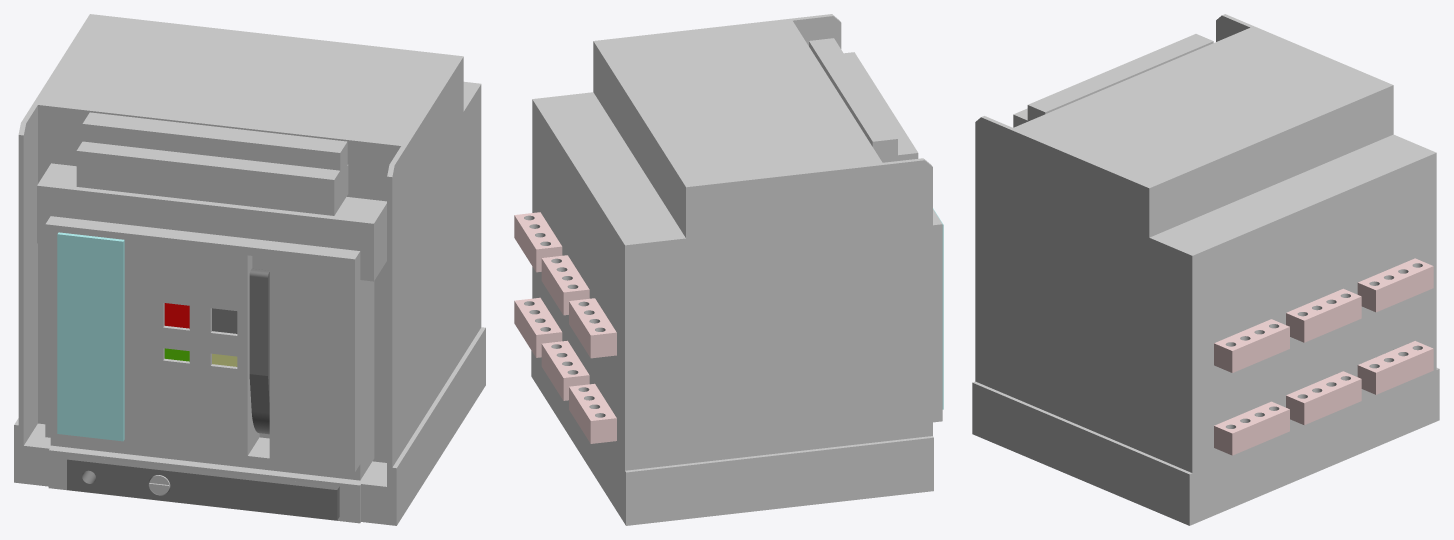
Rendered from 09_vyklyuchatel-avtomaticheskiy-va-67.glb.
3 views of the same model, side by side, from view 1: azimuth 30°, elevation 25°; view 2: azimuth 150°, elevation 25°; view 3: azimuth 270°, elevation 25° (orthographic). The views are drawn at different scales.
Parts seen in each view (by area): view 1: 09_vyklyuchatel-avtomaticheskiy-va-67; view 2: 09_vyklyuchatel-avtomaticheskiy-va-67; view 3: 09_vyklyuchatel-avtomaticheskiy-va-67.
Boxes of the visible parts, x1,y1,x2,y2 form: 09_vyklyuchatel-avtomaticheskiy-va-67: [14, 14, 485, 525]; 09_vyklyuchatel-avtomaticheskiy-va-67: [514, 14, 943, 525]; 09_vyklyuchatel-avtomaticheskiy-va-67: [972, 14, 1439, 525].
Bounding box in the file's own units: 575 × 432 × 575.
